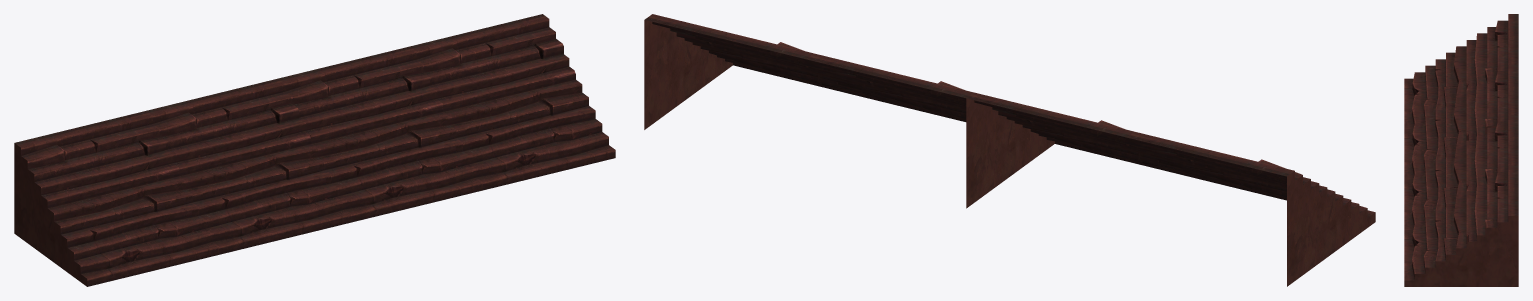
File: lava_stair_halfquad_01.fbx
The picture shows the model from 3 angles, left to right: view 1: azimuth 30°, elevation 25°; view 2: azimuth 150°, elevation 25°; view 3: azimuth 270°, elevation 25°; orthographic projection. The views are drawn at different scales.
Visible parts, largest first — view 1: obj1.063; view 2: obj1.063; view 3: obj1.063.
Part boxes in pixels (bbox=[...]): obj1.063: bbox=[14, 14, 615, 286]; obj1.063: bbox=[644, 14, 1375, 286]; obj1.063: bbox=[1404, 14, 1518, 286].
Bounding box in the file's own units: 16.75 × 2.75 × 4.
